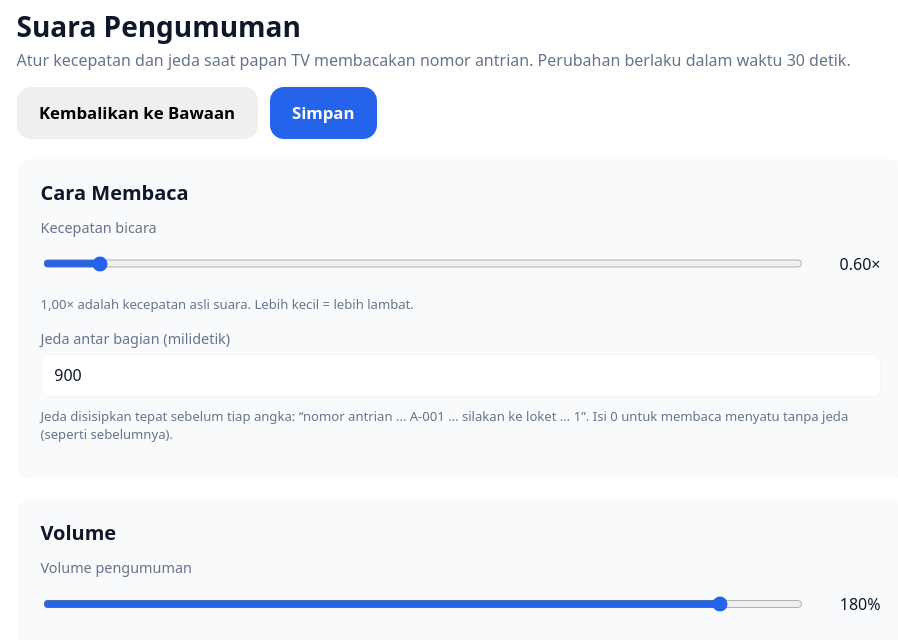
Test: TtsConfigPage › "Kembalikan ke Bawaan" restores the zero-behavior-change delivery
Click the button with test id "tts-reset". click: (137, 113)
box: [16,87,258,139]
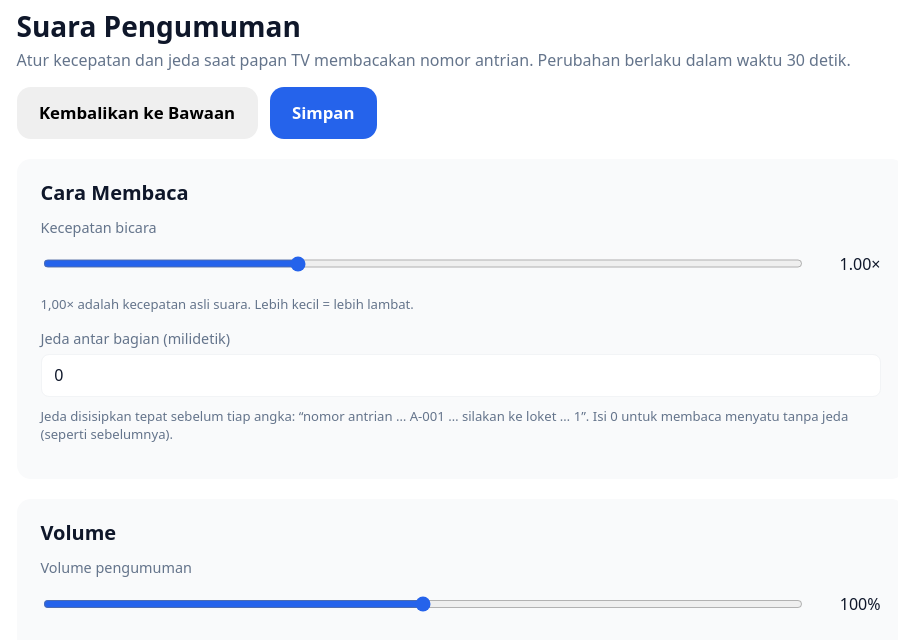
Now the slider with test id "tts-speed" holds "1", box [42,244,802,283]
Now the slider with test id "tts-volume" holds "1", box [42,585,802,623]
Now the number field with test id "tts-pause" holds "0", box [40,354,880,397]
